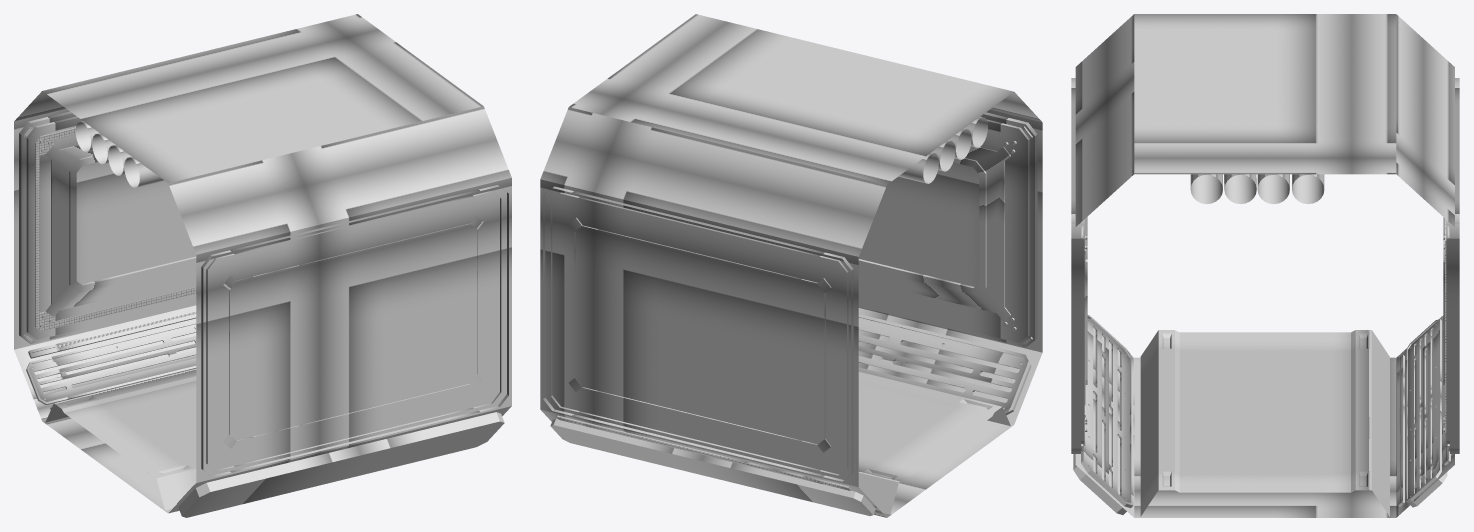
File: icube.obj
The picture shows the model from 3 angles, left to right: view 1: azimuth 30°, elevation 25°; view 2: azimuth 150°, elevation 25°; view 3: azimuth 270°, elevation 25°; orthographic projection. The views are drawn at different scales.
Parts seen in each view (by area): view 1: I_box; view 2: I_box; view 3: I_box.
Boxes of the visible parts, left/top/right/bottom form: I_box: left=14, top=14, right=511, bottom=517; I_box: left=540, top=14, right=1042, bottom=517; I_box: left=1071, top=14, right=1459, bottom=517.
Size of the model in its own units: 79.04 by 79.62 by 80.57.
